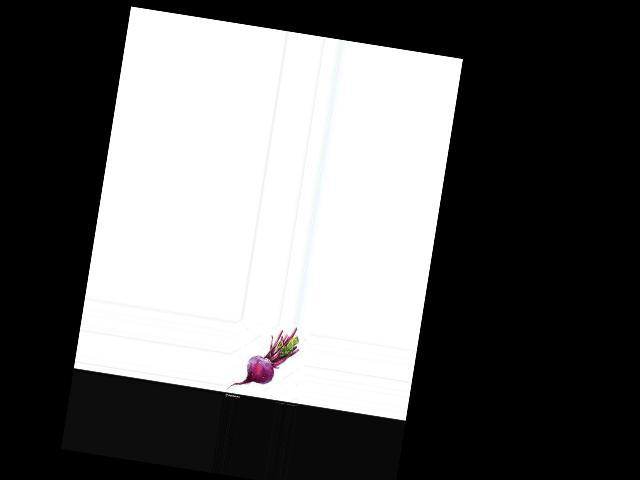beet: (227, 318, 302, 399)
